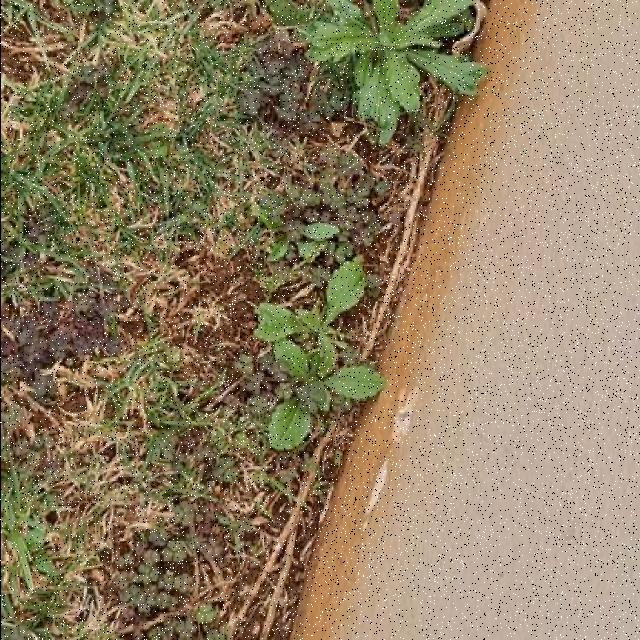weed: (265, 0, 485, 143), (253, 257, 383, 451), (269, 222, 338, 265)
